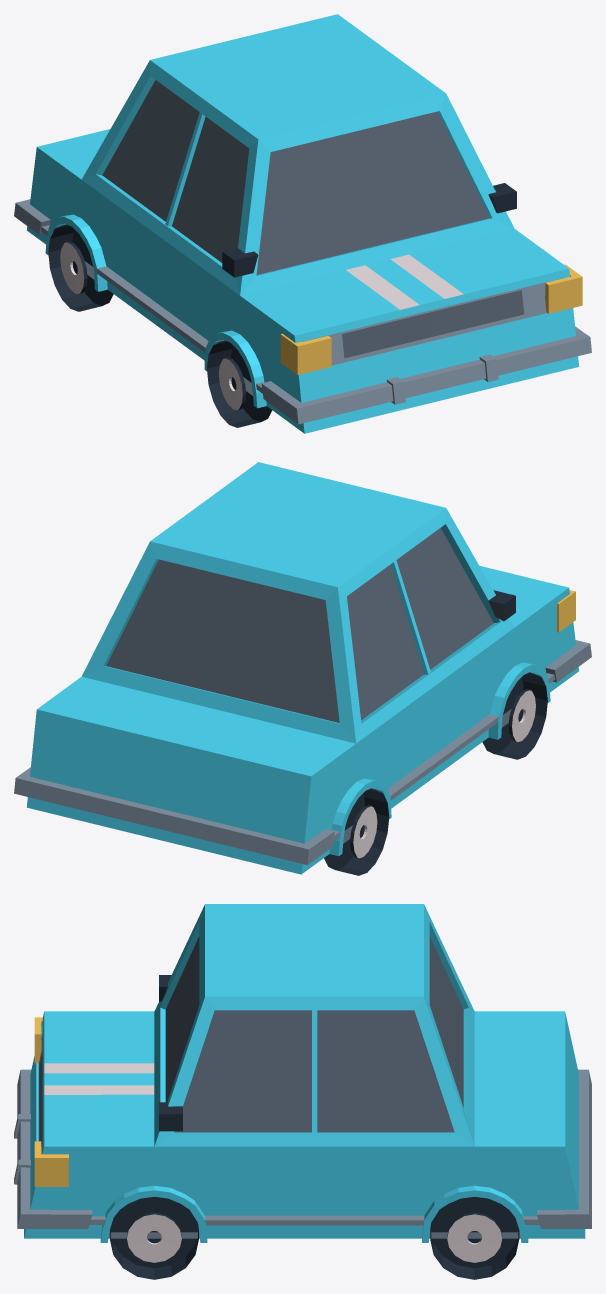
The model's file is car3.fbx.
3 views of the same model, one above another, from view 1: azimuth 30°, elevation 25°; view 2: azimuth 150°, elevation 25°; view 3: azimuth 270°, elevation 25° (orthographic).
Visible parts, largest first — view 1: purple.005; view 2: purple.005; view 3: purple.005.
Part boxes in pixels (left/top/right/bottom): purple.005: left=14, top=14, right=591, bottom=433; purple.005: left=14, top=462, right=591, bottom=875; purple.005: left=14, top=904, right=591, bottom=1279.
Size of the model in its own units: 216 by 177 by 361.
